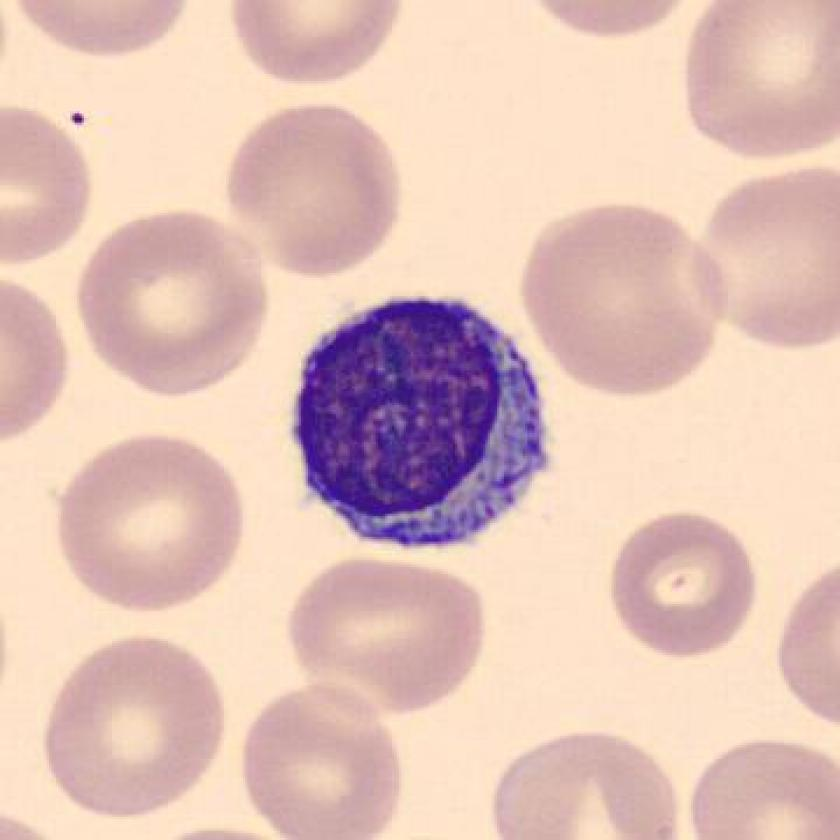lymphocyte: (277, 286, 571, 563)
